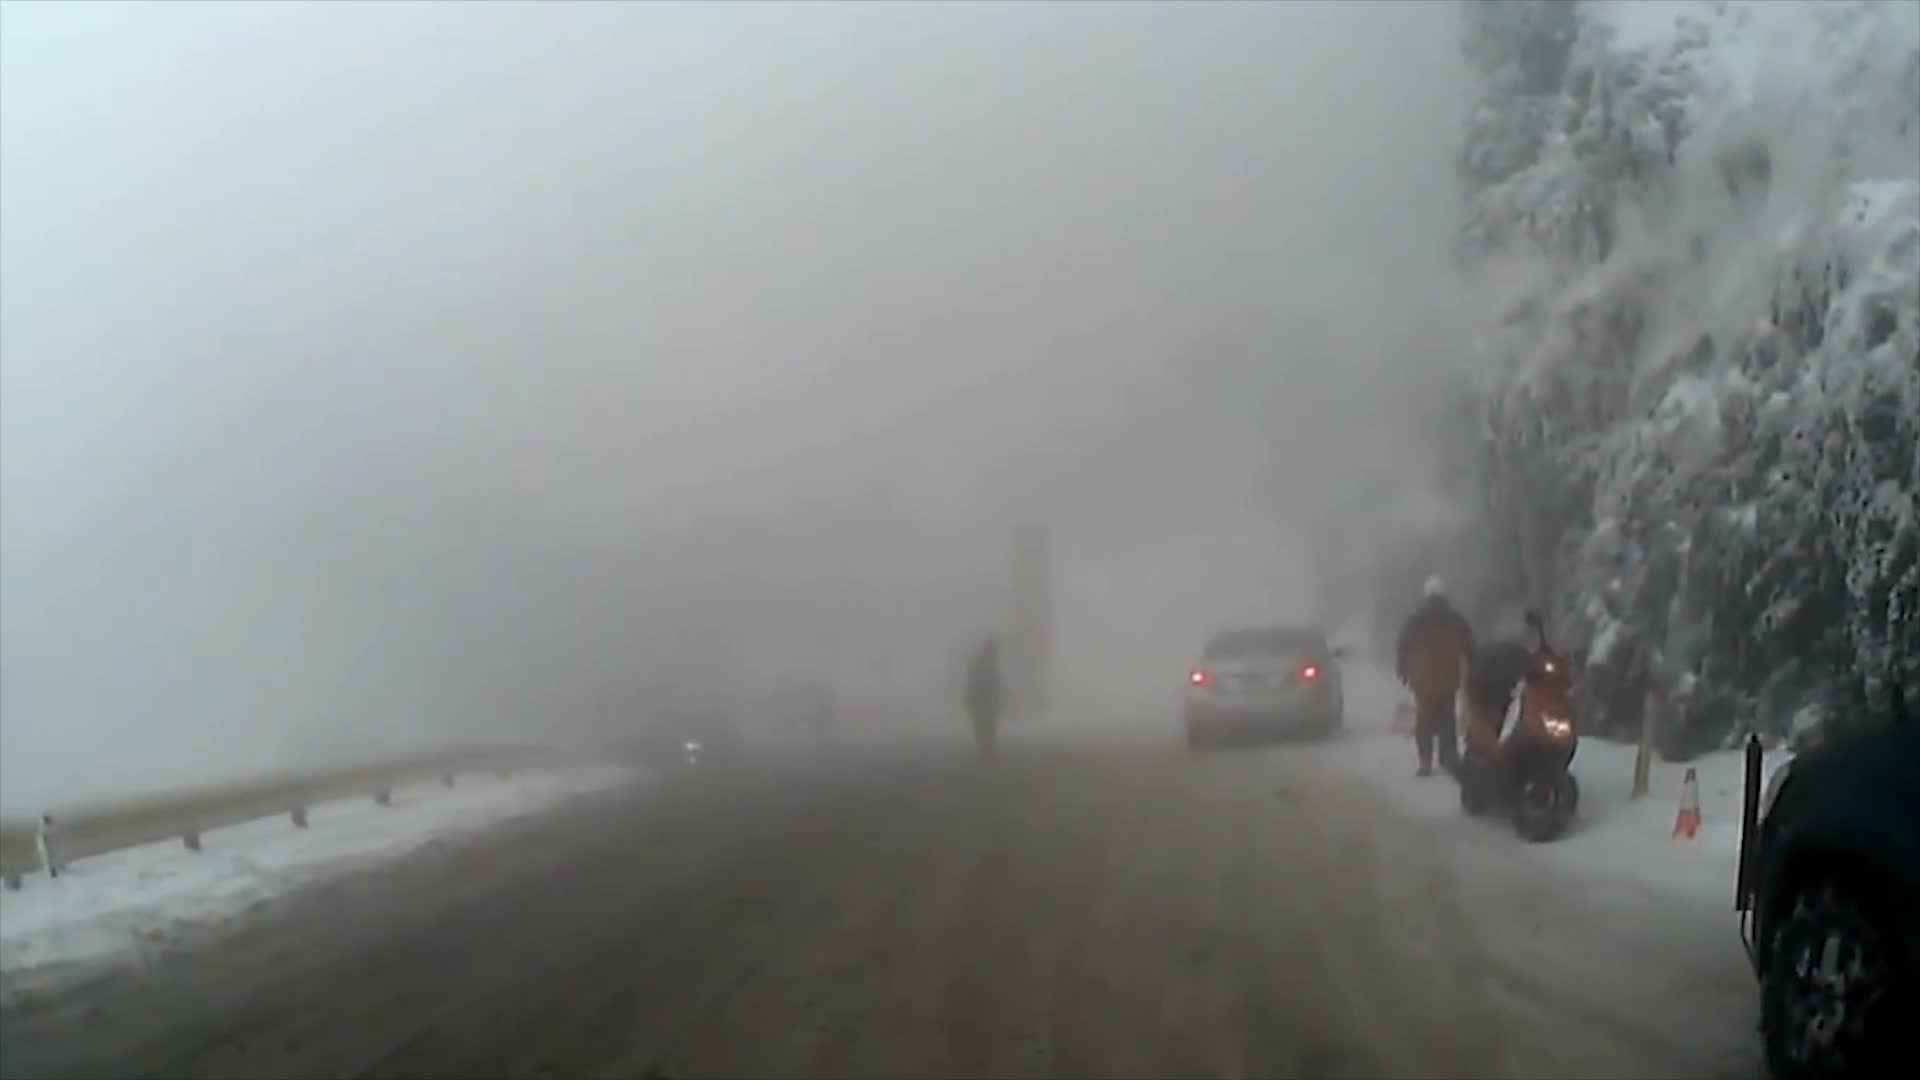pedestrian: (1396, 567, 1486, 781), (963, 635, 1005, 770)
vehicle: (1729, 626, 1918, 1079), (1179, 622, 1347, 752)
